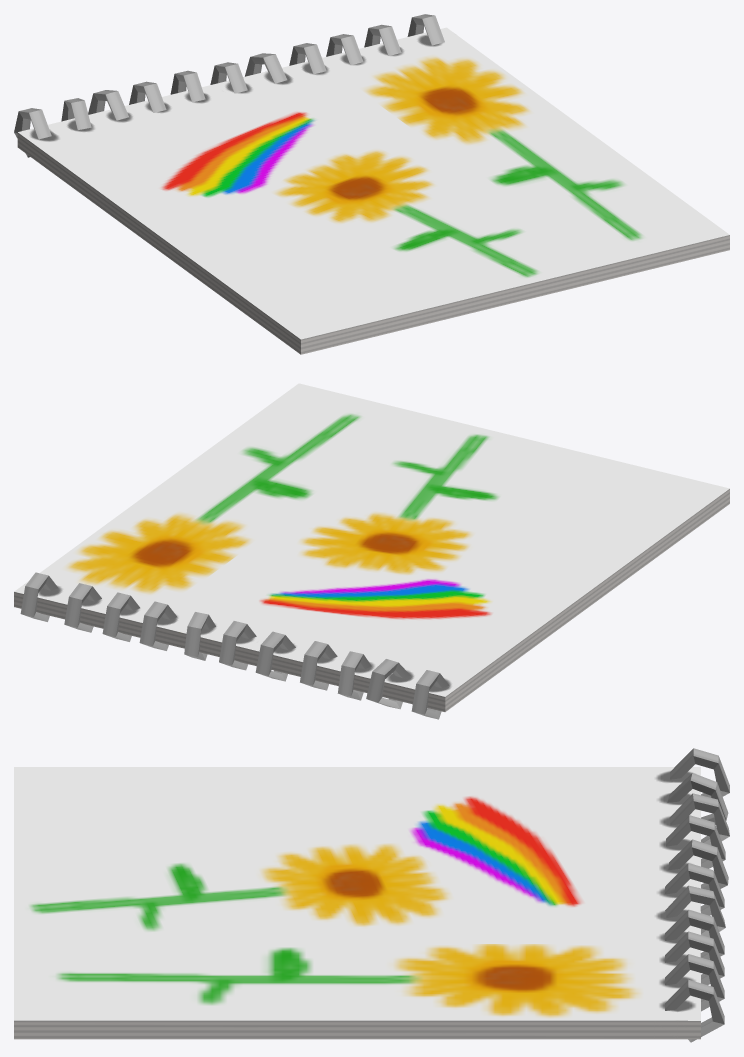
Rendered from sketchblock1.fbx.
The picture shows the model from 3 angles, top to bottom: view 1: azimuth 30°, elevation 25°; view 2: azimuth 150°, elevation 25°; view 3: azimuth 270°, elevation 25°; orthographic projection. The views are drawn at different scales.
Visible parts, largest first — view 1: Plane.002; view 2: Plane.002; view 3: Plane.002.
Part boxes in pixels (x1,y1,x2,y2): Plane.002: [14, 14, 729, 354]; Plane.002: [14, 383, 729, 719]; Plane.002: [14, 748, 729, 1042].
Size of the model in its own units: 175 by 17.95 by 208.
